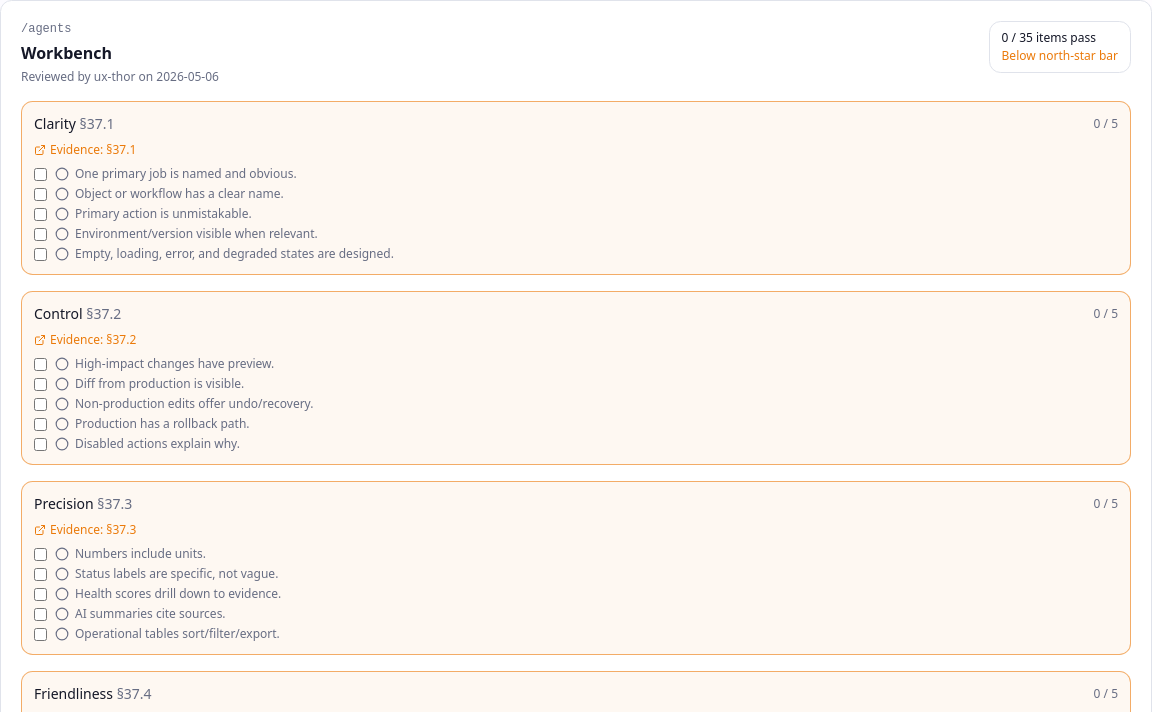
Test: ScreenChecklist › starts blank reviews fully unchecked and toggles items
The image size is (1152, 712).
Expected: the element with test id "checklist-score" shows "0 /", [989, 21, 1131, 73]
Expected: the element with test id "checklist-score" shows "Below north-star", [1002, 47, 1118, 64]
Click the checkbox labelled "One primary job is named and obvious." at point(40, 174), box [34, 168, 47, 181]
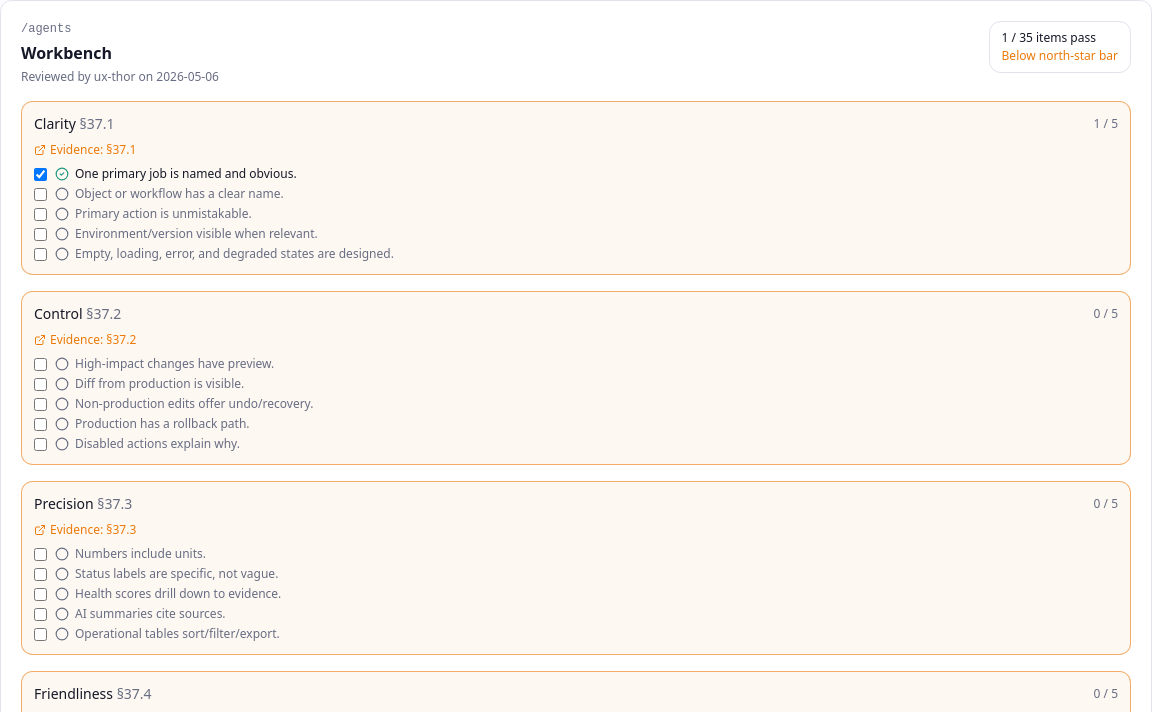
Expected: the element with test id "checklist-score" shows "1 /", [989, 21, 1131, 73]
